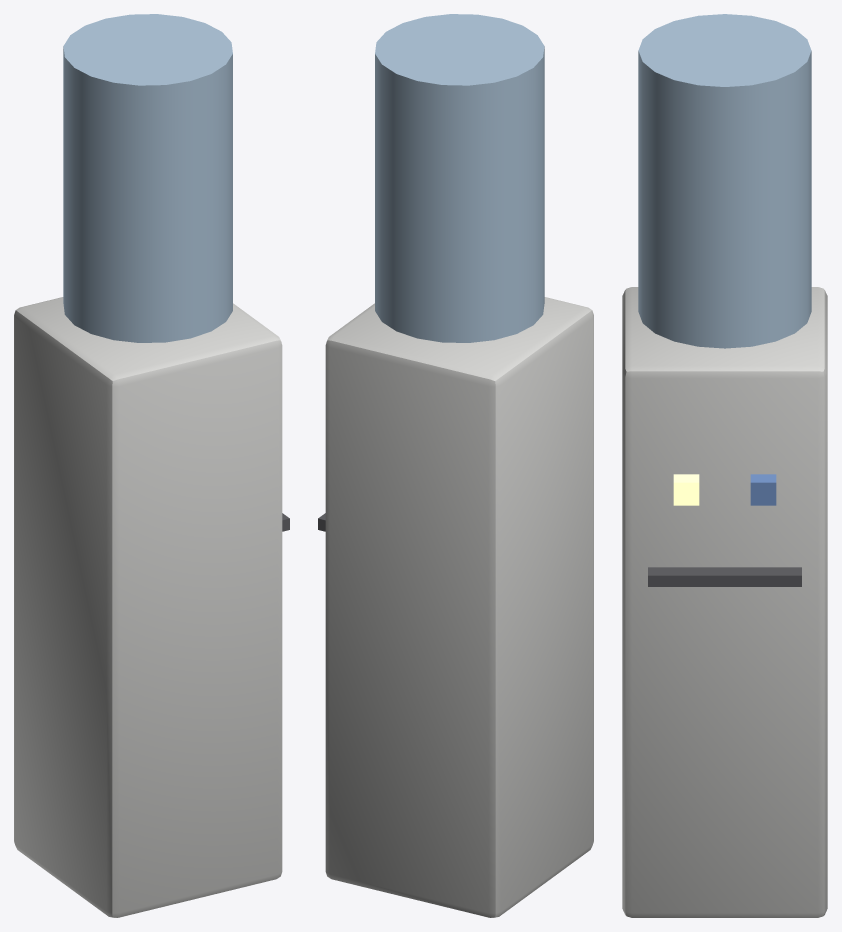
The model's file is SM_WaterCooler.fbx.
The picture shows the model from 3 angles, left to right: view 1: azimuth 30°, elevation 25°; view 2: azimuth 150°, elevation 25°; view 3: azimuth 270°, elevation 25°; orthographic projection.
Visible parts, largest first — view 1: SM_WaterCooler; view 2: SM_WaterCooler; view 3: SM_WaterCooler.
Boxes of the visible parts, bbox=[...] form: SM_WaterCooler: bbox=[14, 14, 289, 917]; SM_WaterCooler: bbox=[318, 14, 593, 917]; SM_WaterCooler: bbox=[622, 14, 827, 917].
Size of the model in its own units: 35 by 143 by 32.
